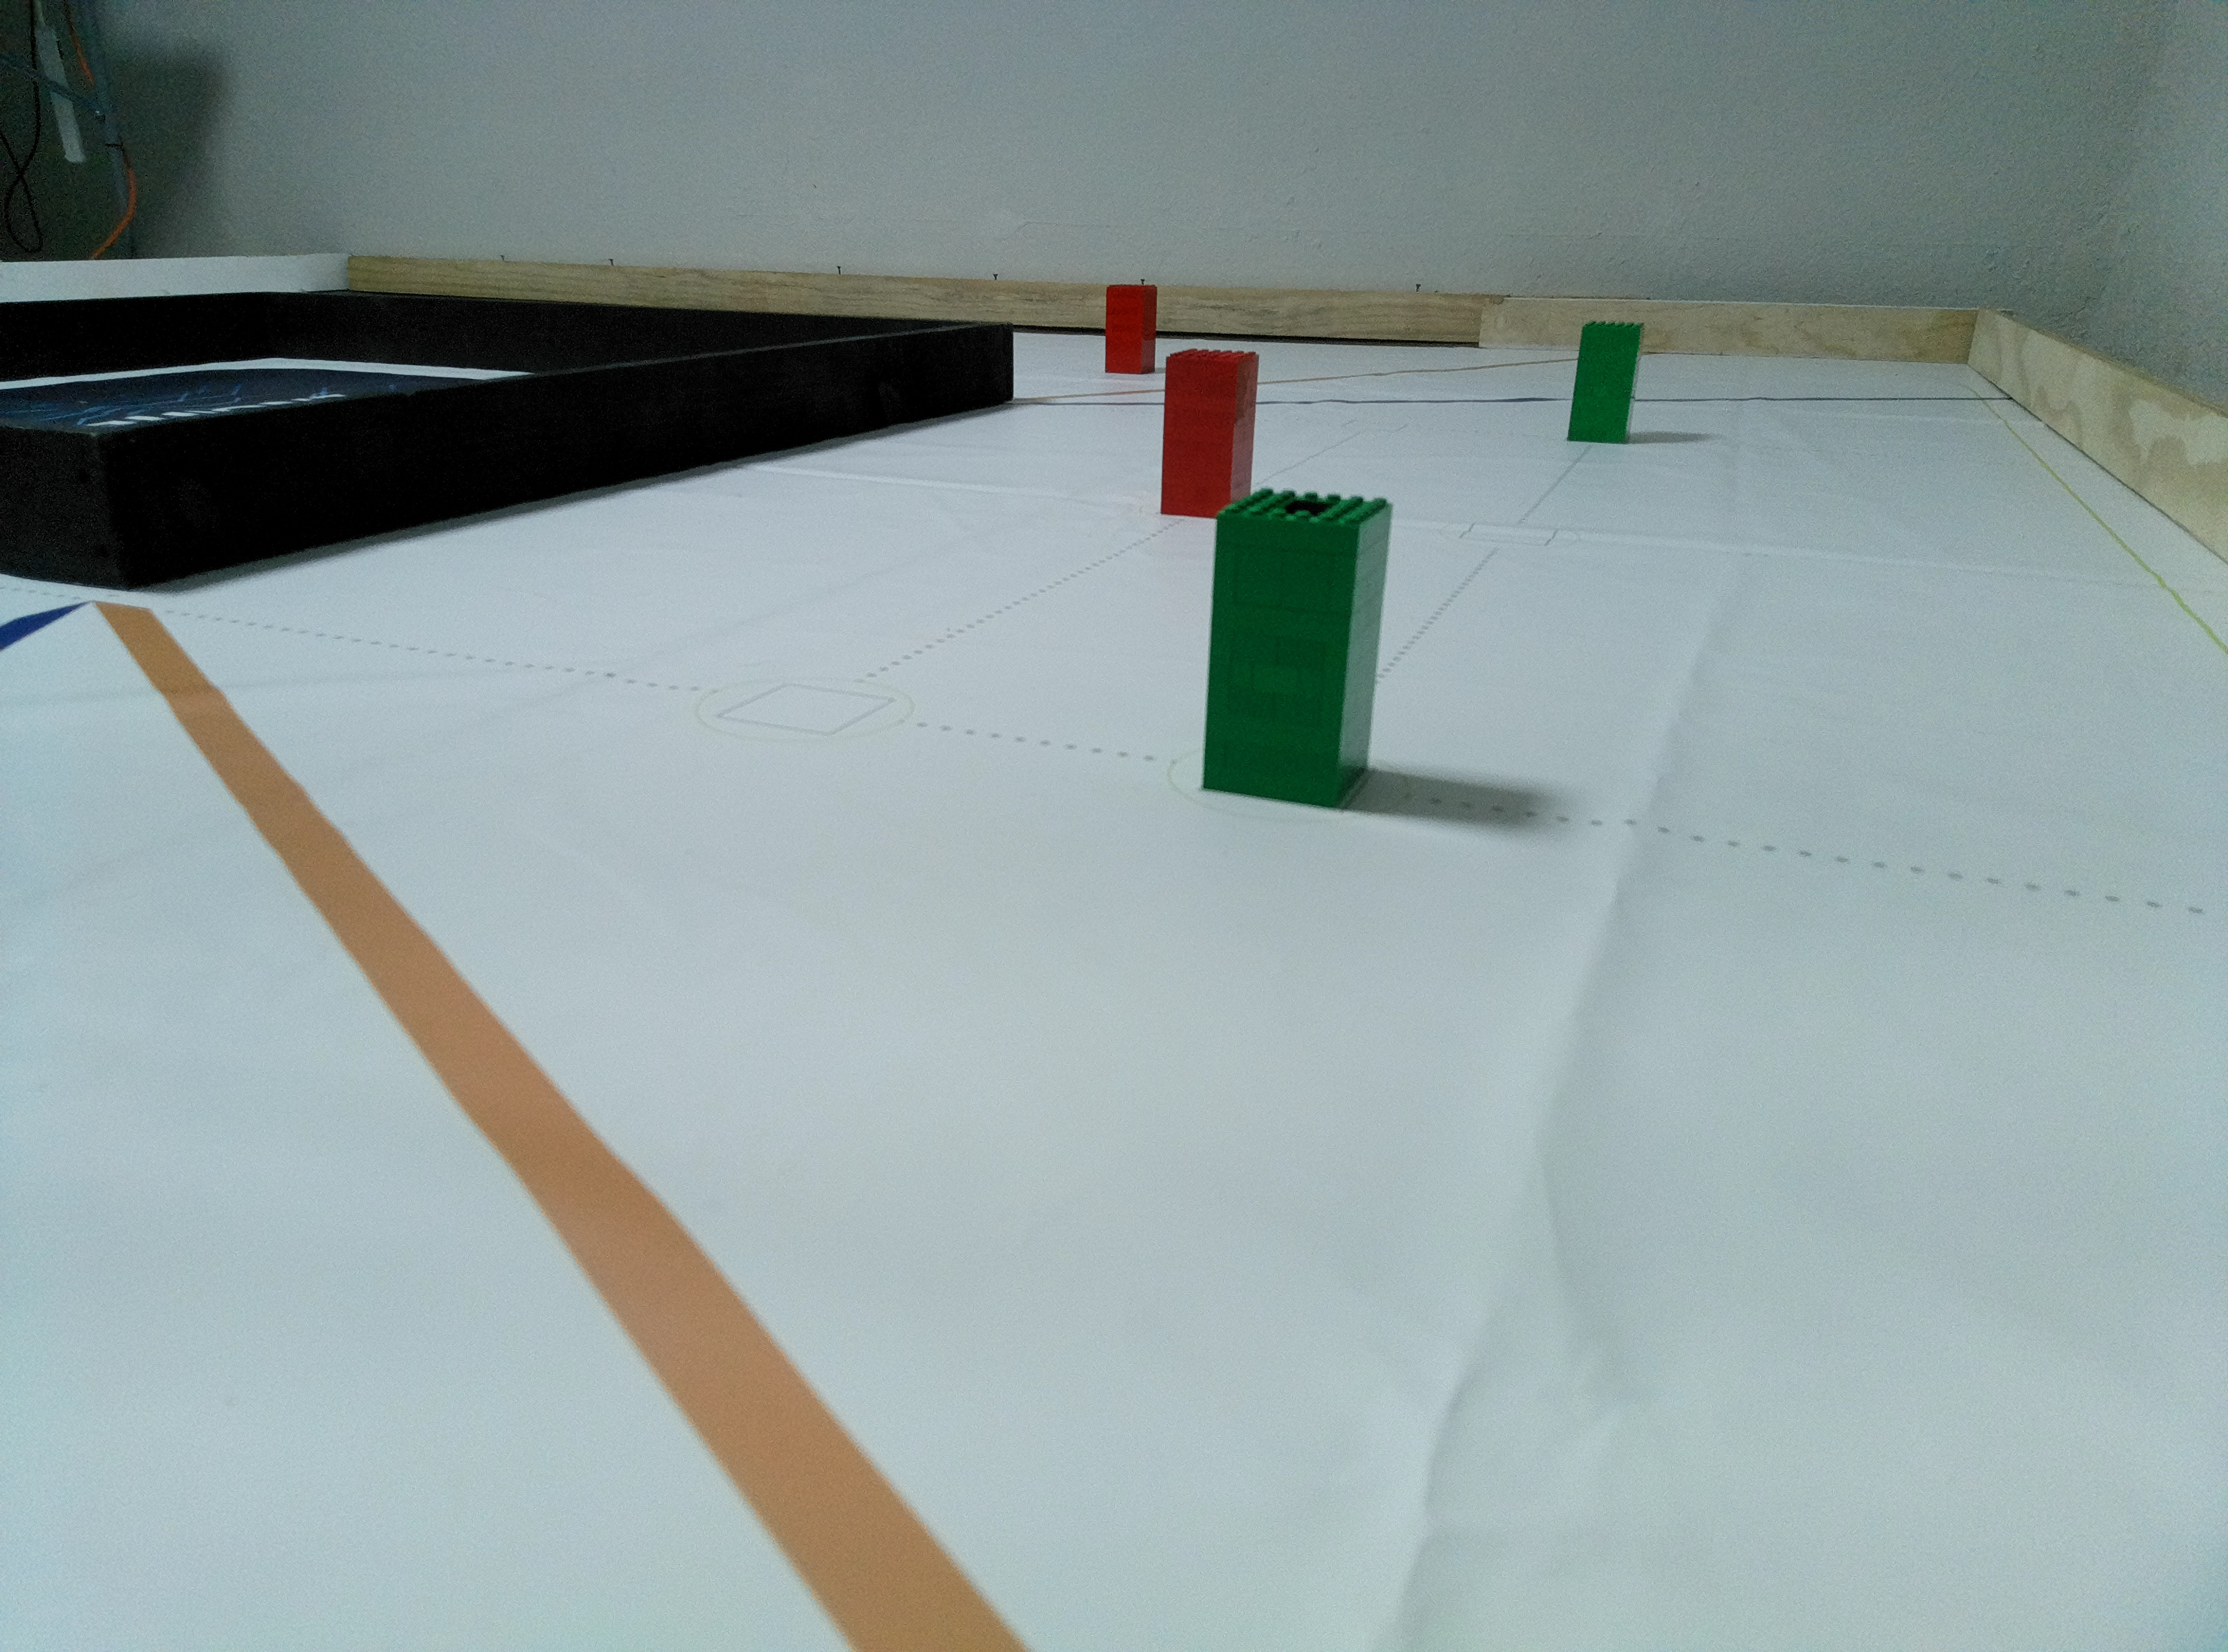greenbox: (1199, 486, 1399, 816), (1565, 319, 1647, 446)
redbox: (1159, 347, 1260, 522), (1104, 283, 1159, 377)
